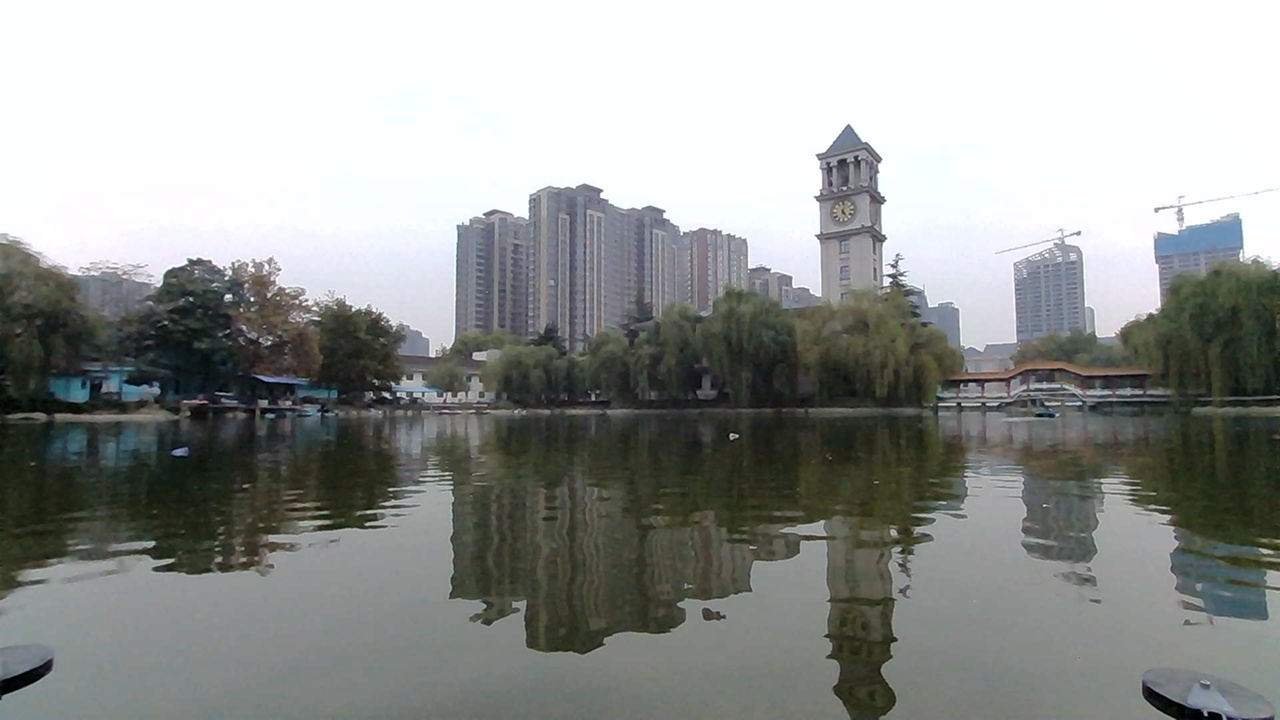bottle: (164, 431, 213, 468), (713, 417, 756, 446)
